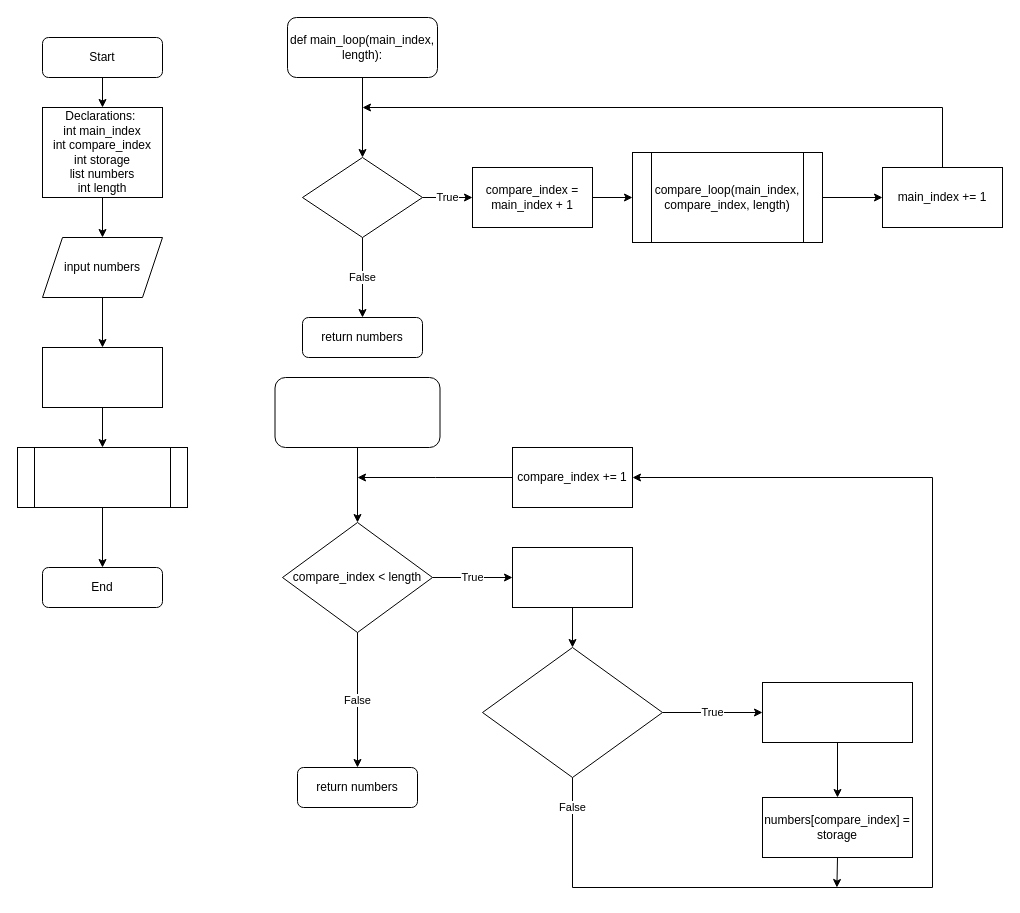
Image size: 1020x913. Some labels were removed from this diagram. The centre of each missing label's shape, as x and y in pixels:
"def compare_loop(main_index, compare_index, length):" belongs at [357,412].
"if numbers[main_index] > numbers[compare_index]" belongs at [572,712].
"main index < length" belongs at [362,197].
"main_index = 0 length = len(numbers)" belongs at [102,377].
"main_loop(main_index, length, numbers, compare_index, storage)" belongs at [102,477].
"numbers[main_index] = numbers[compare_index]" belongs at [837,712].
"storage = numbers[main_index]" belongs at [572,577].
